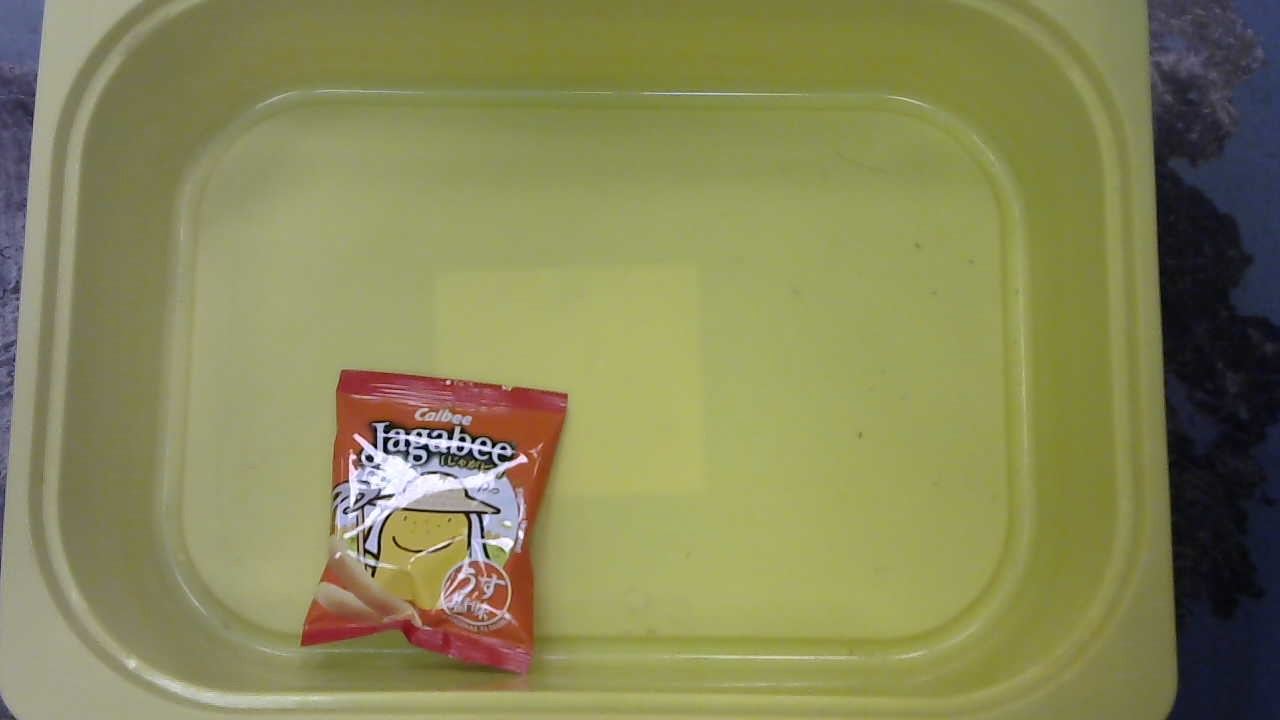JagabeeFarmer: (298, 358, 576, 681)
